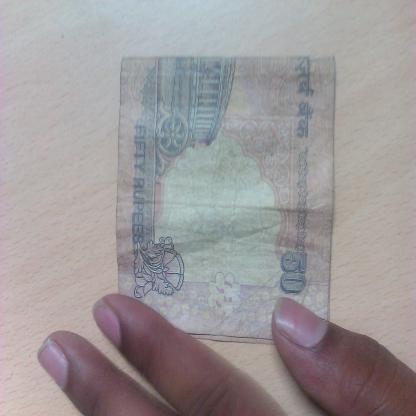Old50Back: (115, 55, 336, 346)
